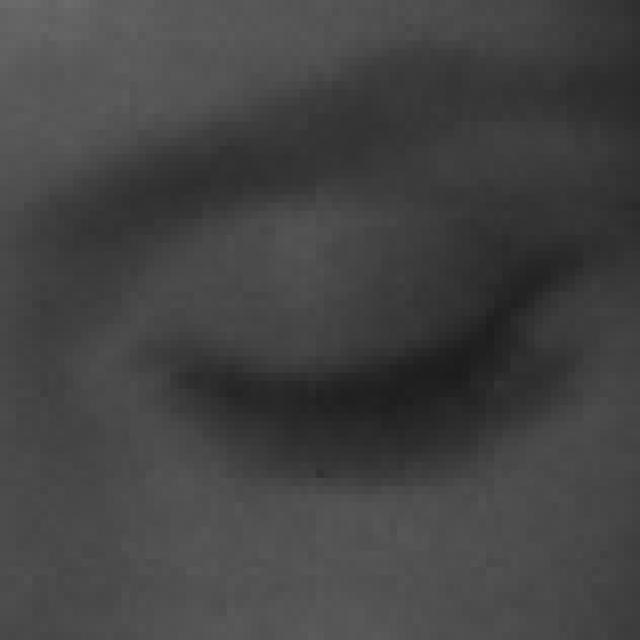Eyeclosed: (166, 177, 574, 548)
